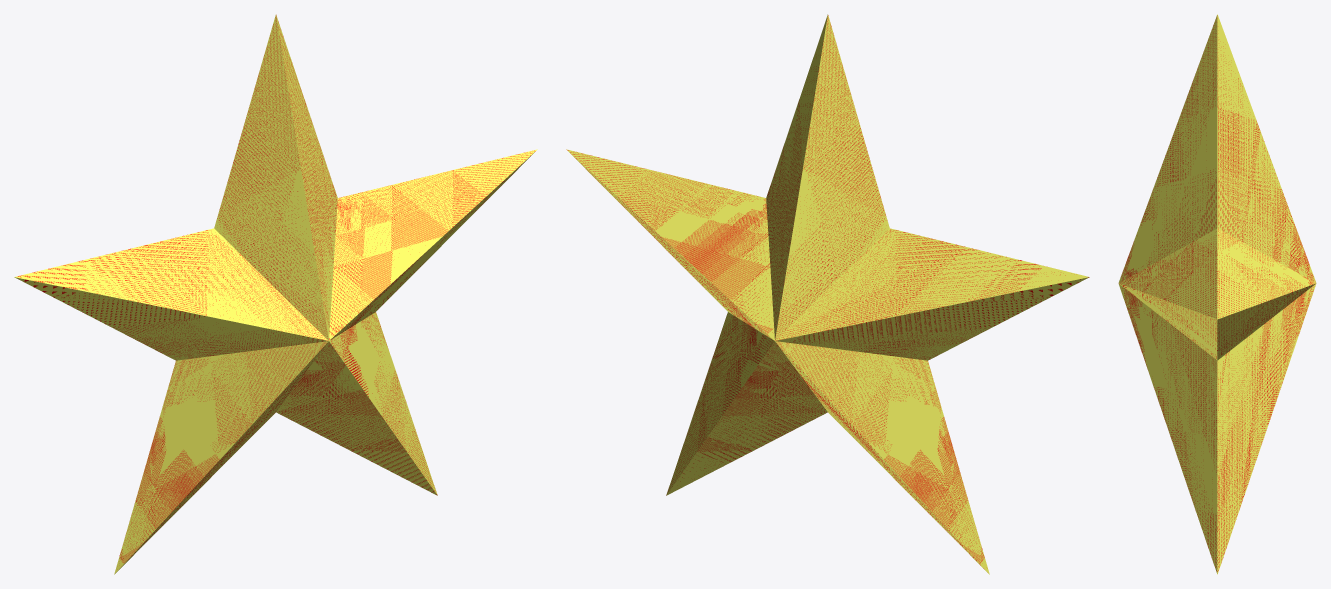
File: star.dae
3 views of the same model, side by side, from view 1: azimuth 30°, elevation 25°; view 2: azimuth 150°, elevation 25°; view 3: azimuth 270°, elevation 25° (orthographic). The views are drawn at different scales.
Parts seen in each view (by area): view 1: SketchUp; view 2: SketchUp; view 3: SketchUp.
Boxes of the visible parts, x1,y1,x2,y2 form: SketchUp: (14, 14, 537, 574); SketchUp: (566, 14, 1089, 574); SketchUp: (1118, 14, 1316, 574).
Bounding box in the file's own units: 8.99 × 3.15 × 8.55.
